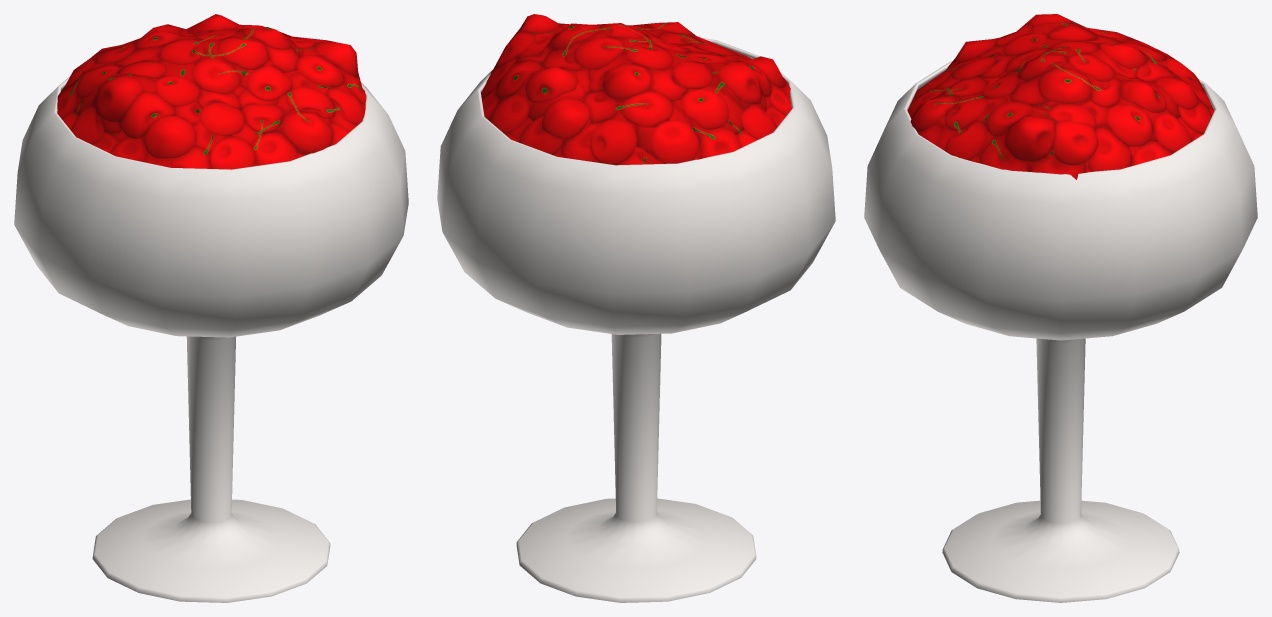
Rendered from BuffetBarries01_2.FBX.
3 renders of one model, left to right at view 1: azimuth 30°, elevation 25°; view 2: azimuth 150°, elevation 25°; view 3: azimuth 270°, elevation 25°, orthographic. The views are drawn at different scales.
Visible parts, largest first — view 1: BuffetBarries01_2; view 2: BuffetBarries01_2; view 3: BuffetBarries01_2.
Part boxes in pixels (x1,y1,x2,y2): BuffetBarries01_2: [14, 14, 408, 602]; BuffetBarries01_2: [437, 14, 835, 602]; BuffetBarries01_2: [864, 14, 1257, 602].
Size of what is drawn, in the model's own units: 0.2655 by 0.3754 by 0.2655.
